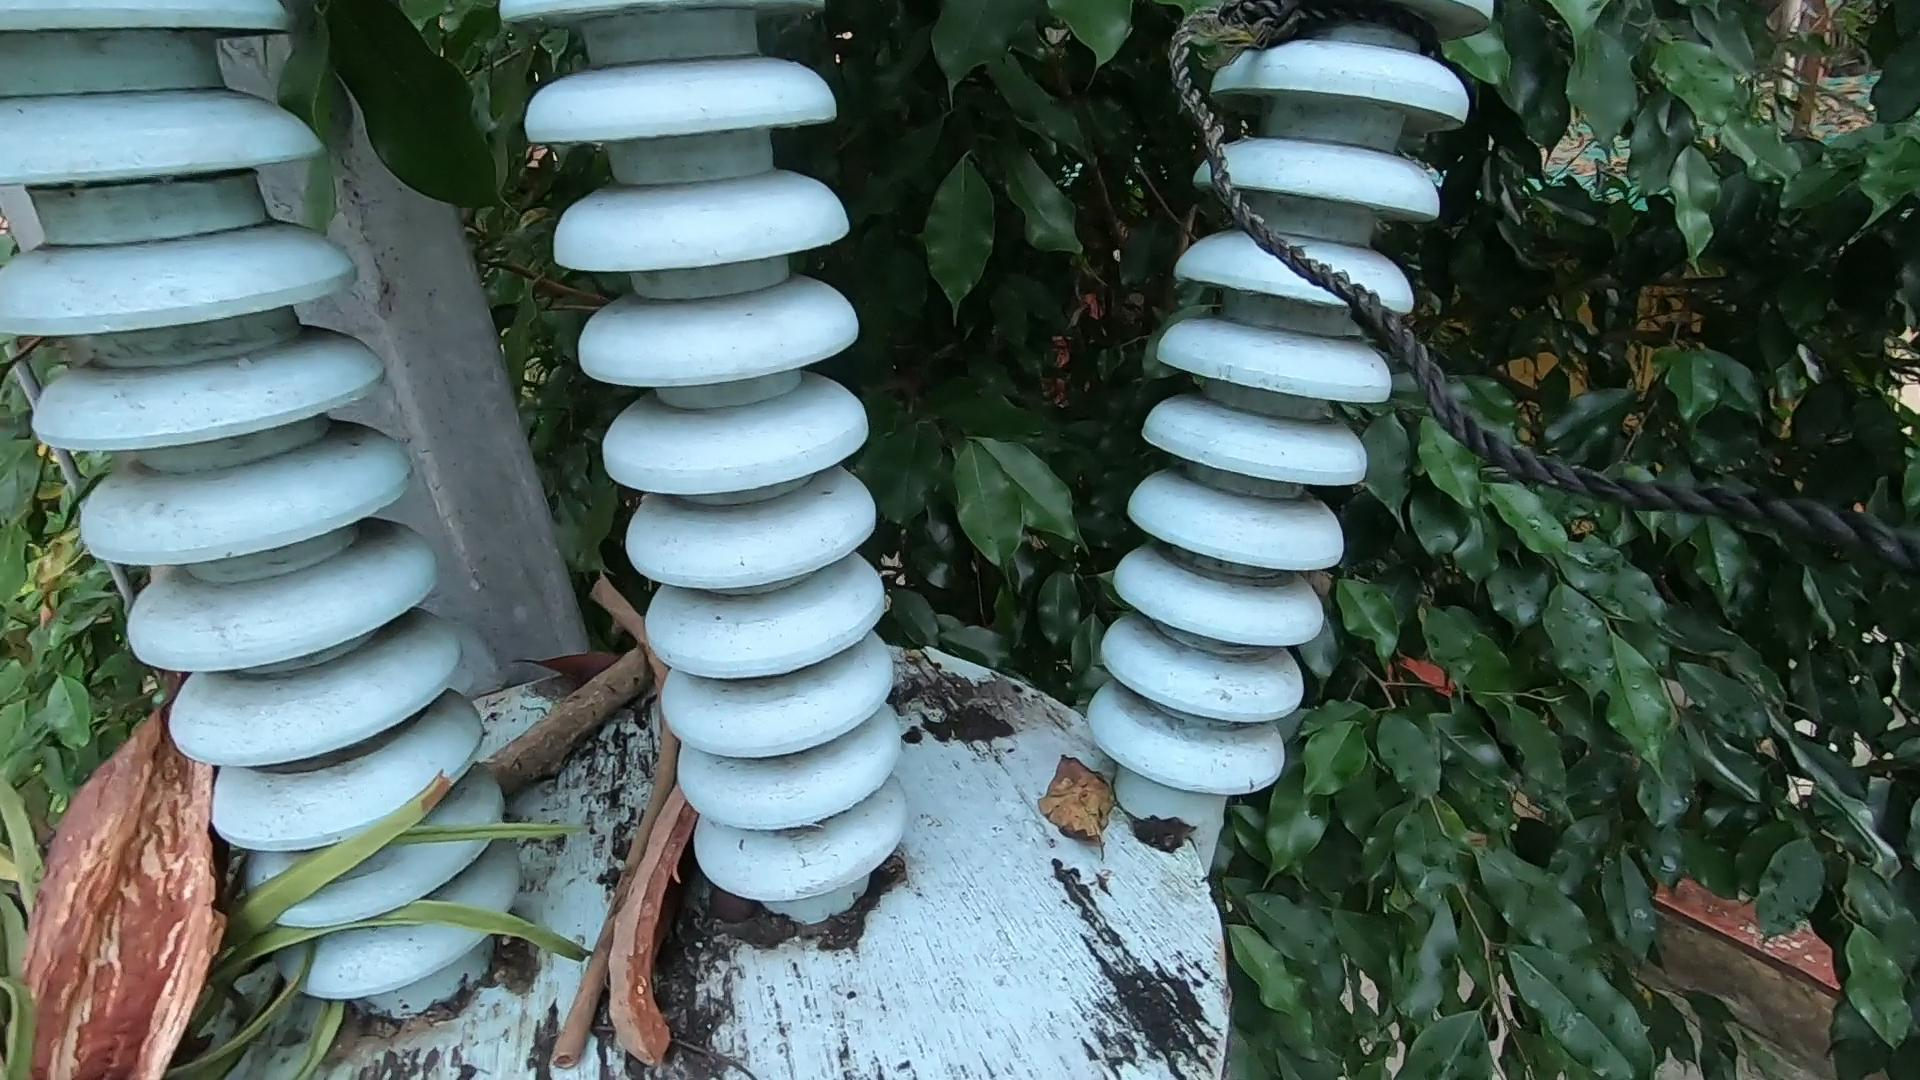branch with leaves: (11, 524, 651, 1080)
leaf: (1029, 735, 1172, 894)
mahogany fruit: (53, 756, 212, 1046), (636, 804, 717, 1040)
tree branch: (571, 538, 688, 1080)
